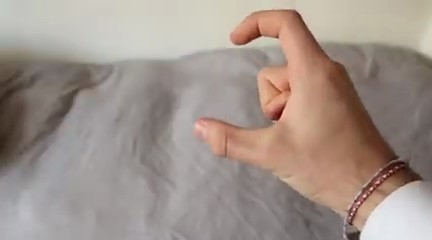C: (182, 6, 378, 200)
